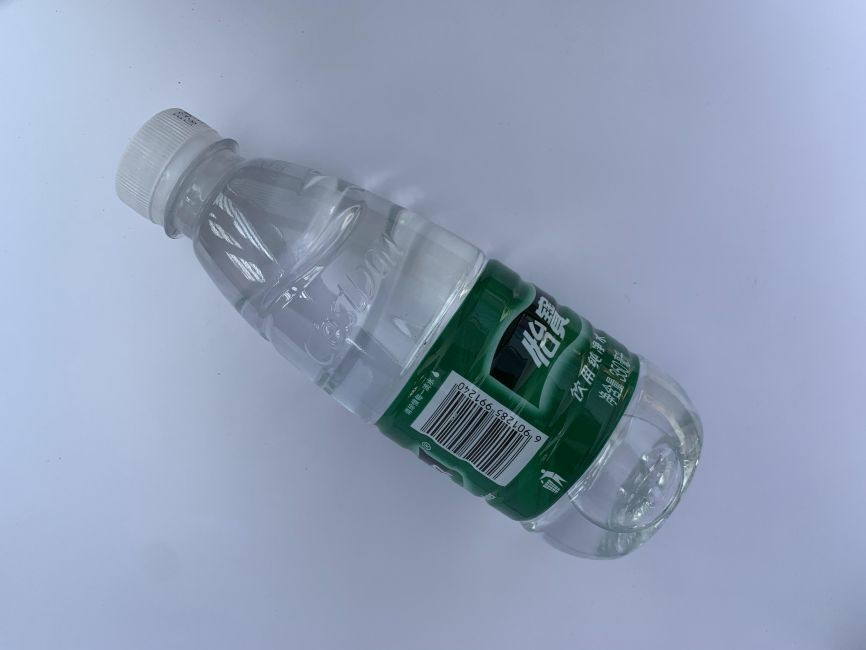bottle: (108, 103, 707, 565)
